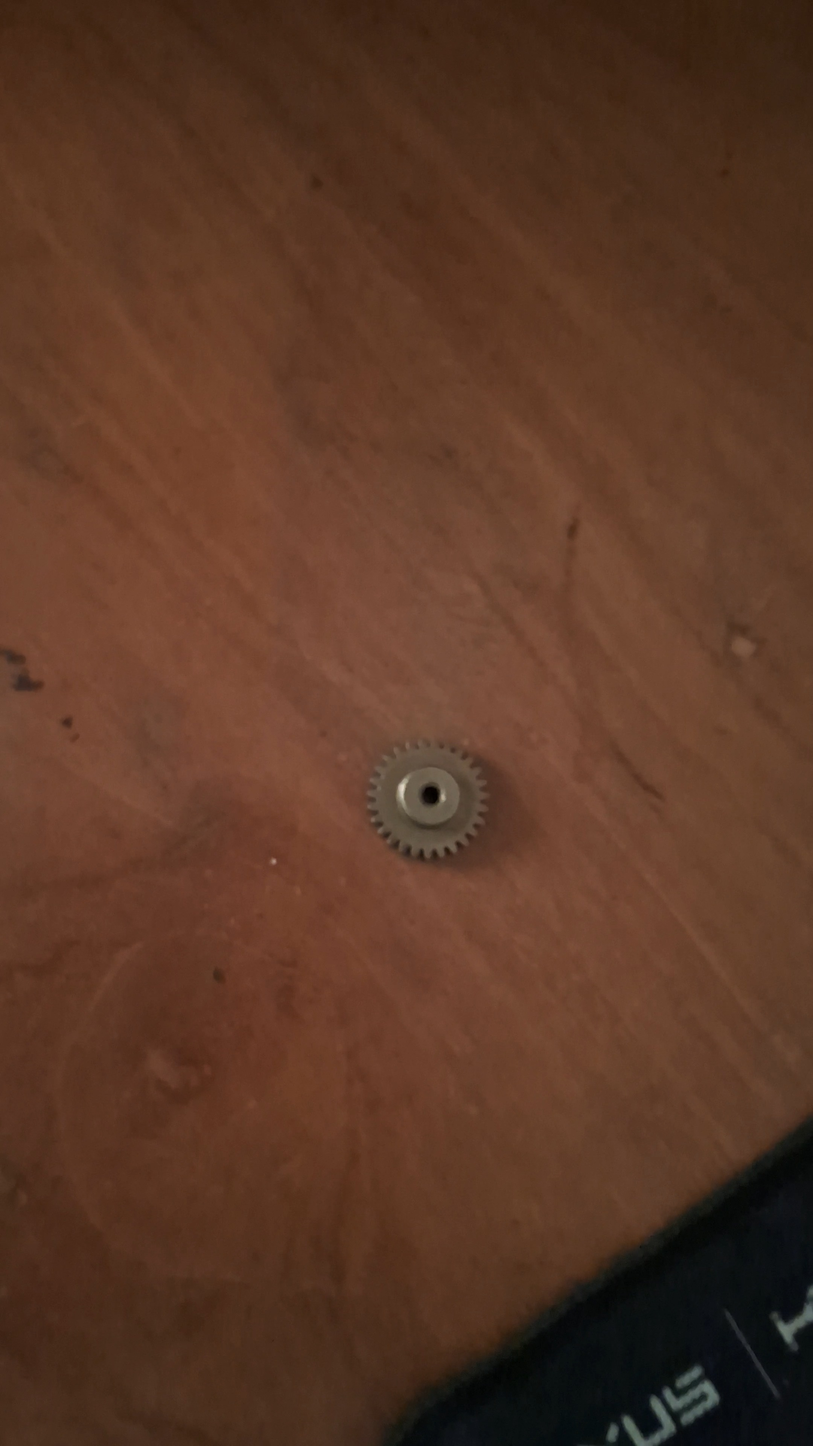spur gear: (368, 743, 487, 859)
